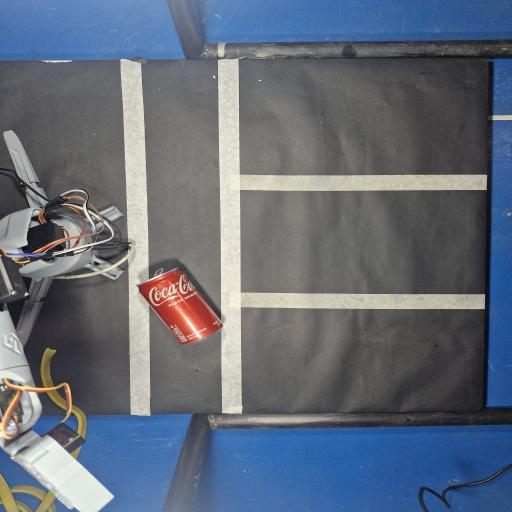lata: (137, 268, 223, 345)
